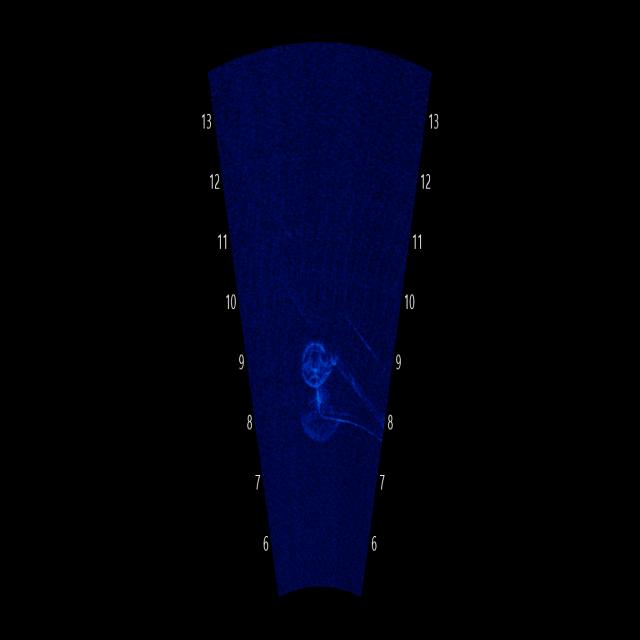circle: (291, 314, 348, 401)
